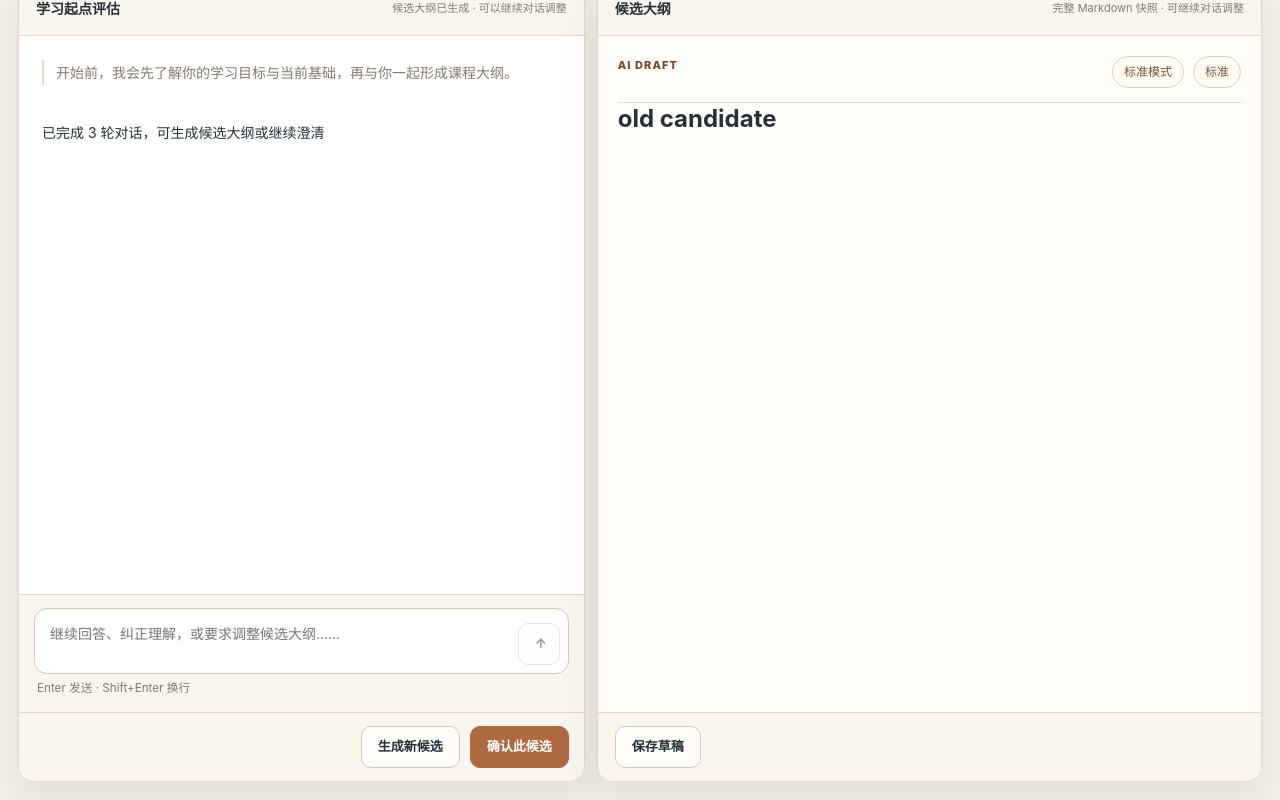
Test: CourseAuthoring page › keeps adjustment replies separate and generates a new candidate only when requested
(page scrolled)
Type "add practical examples" into the text box named "补充需求" at (276, 641), box [43, 617, 509, 665]
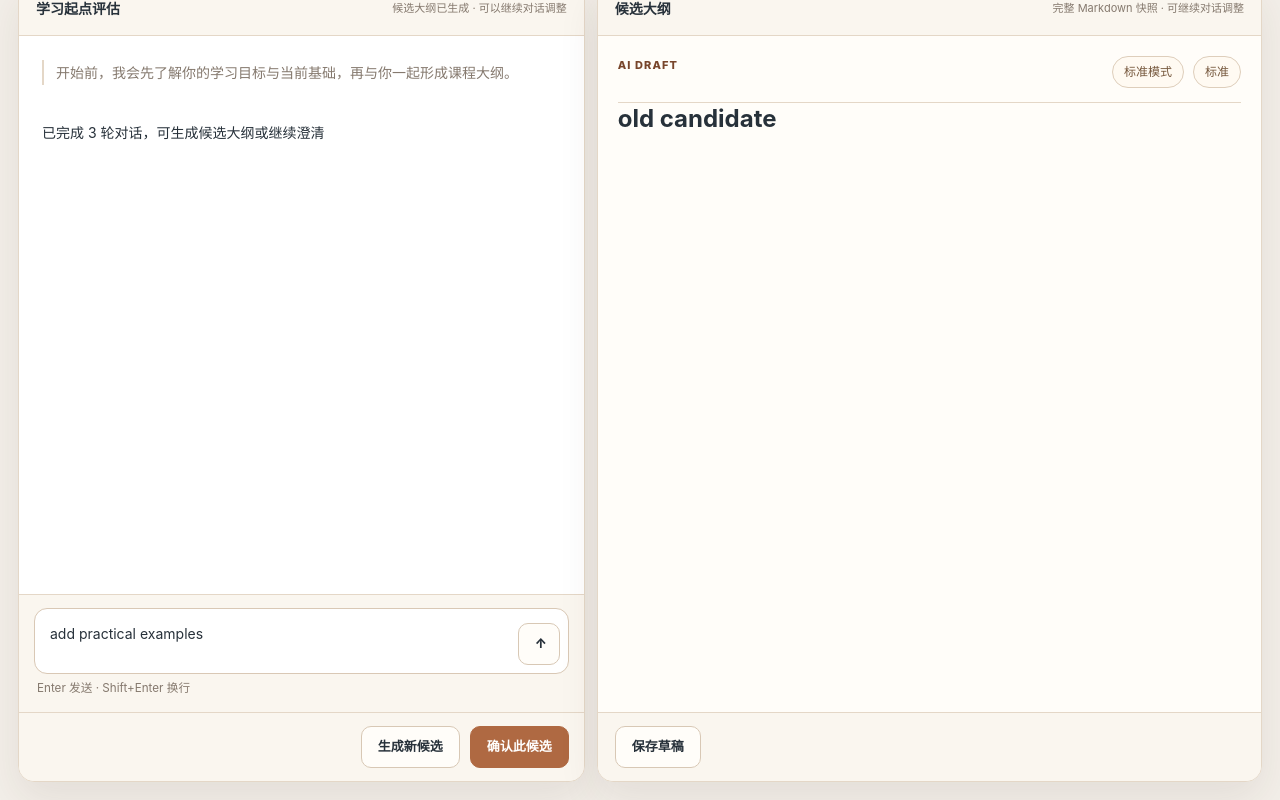
Click the button named "保存调整" at (539, 644), box [518, 623, 560, 665]
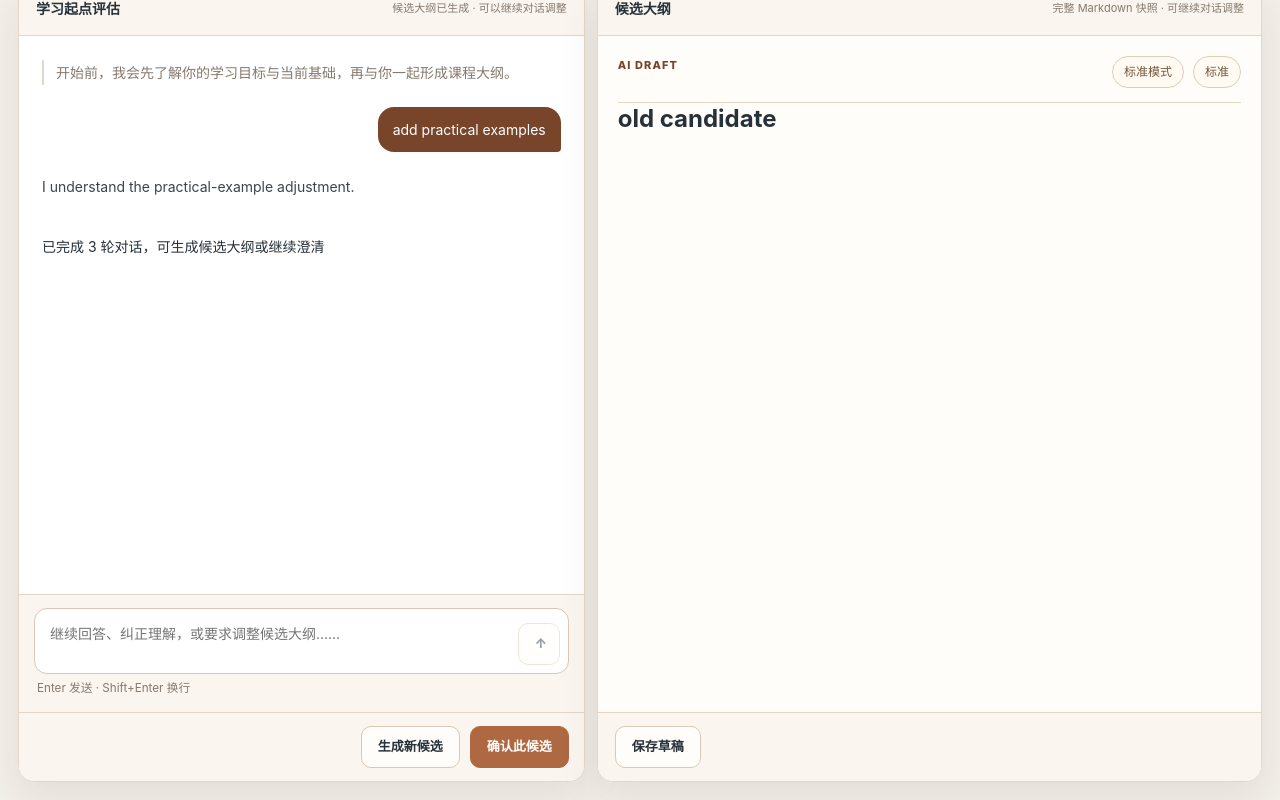
Now the text "I understand the practical-example adjustment." is shown, box [42, 178, 354, 195]
Click the button "生成新候选" at (410, 746), box [361, 726, 460, 768]
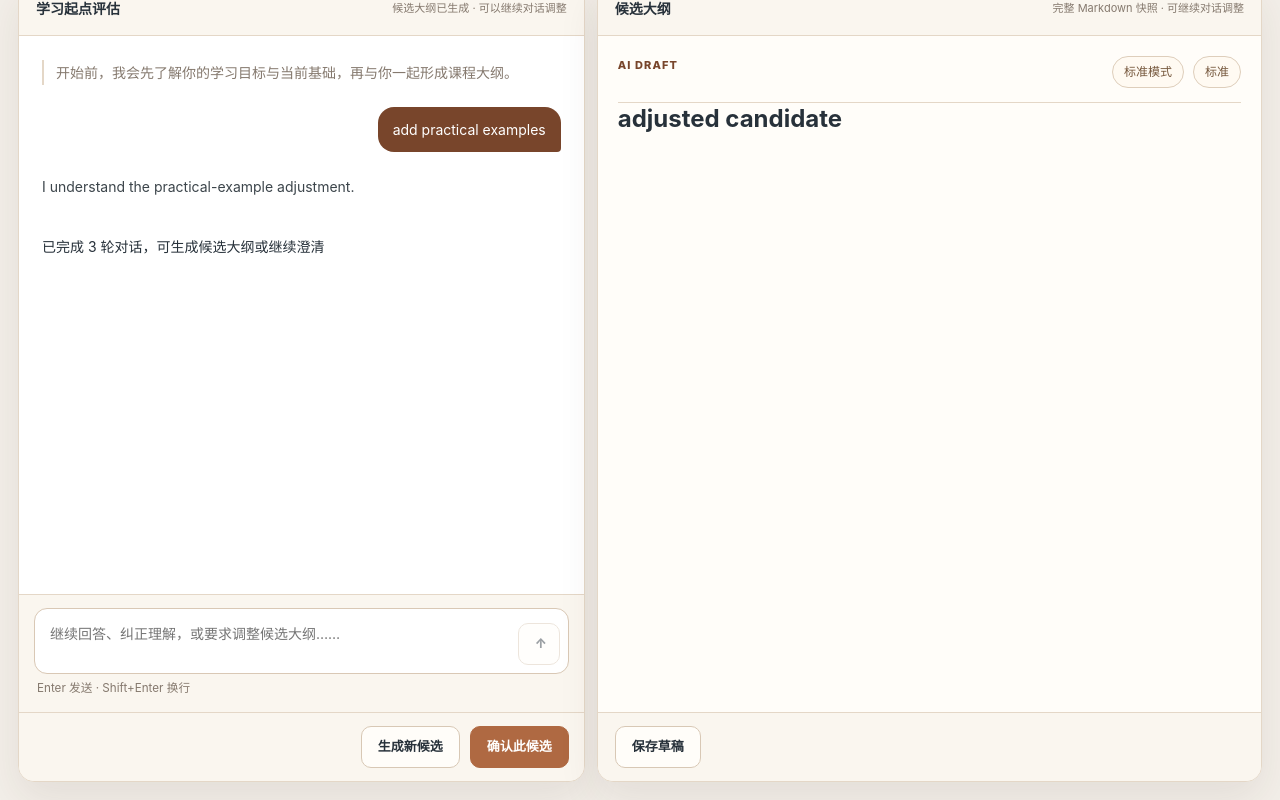
Now the heading "adjusted candidate" is shown, box [618, 104, 842, 133]
